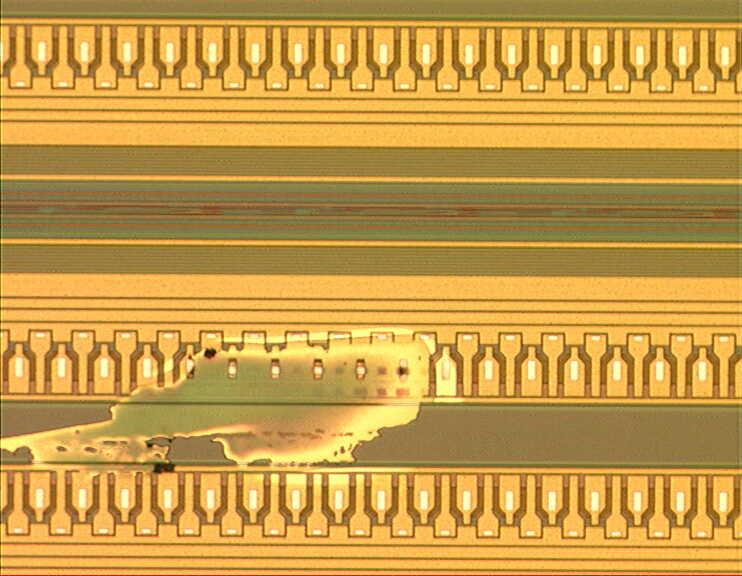BLOCK ETCH: (1, 328, 441, 480)
